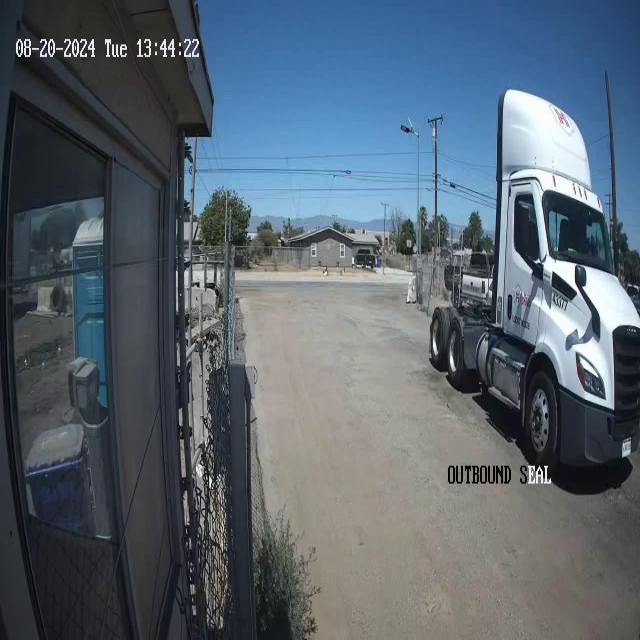TRUCK_IN: (428, 86, 640, 474)
